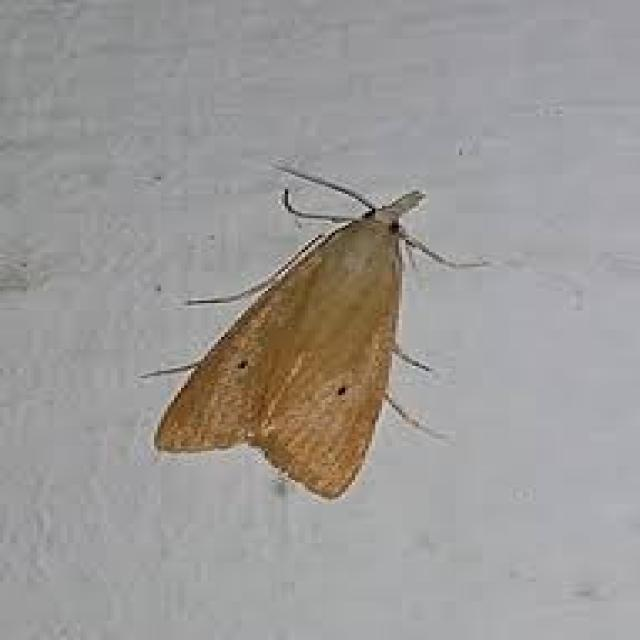yellow-stem-borer: (127, 117, 502, 515)
